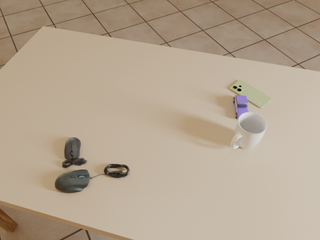cup: (231, 112, 267, 149)
mouse: (55, 170, 93, 193), (62, 137, 87, 168)
phone: (230, 80, 271, 108)
toy_car: (233, 95, 248, 119)
